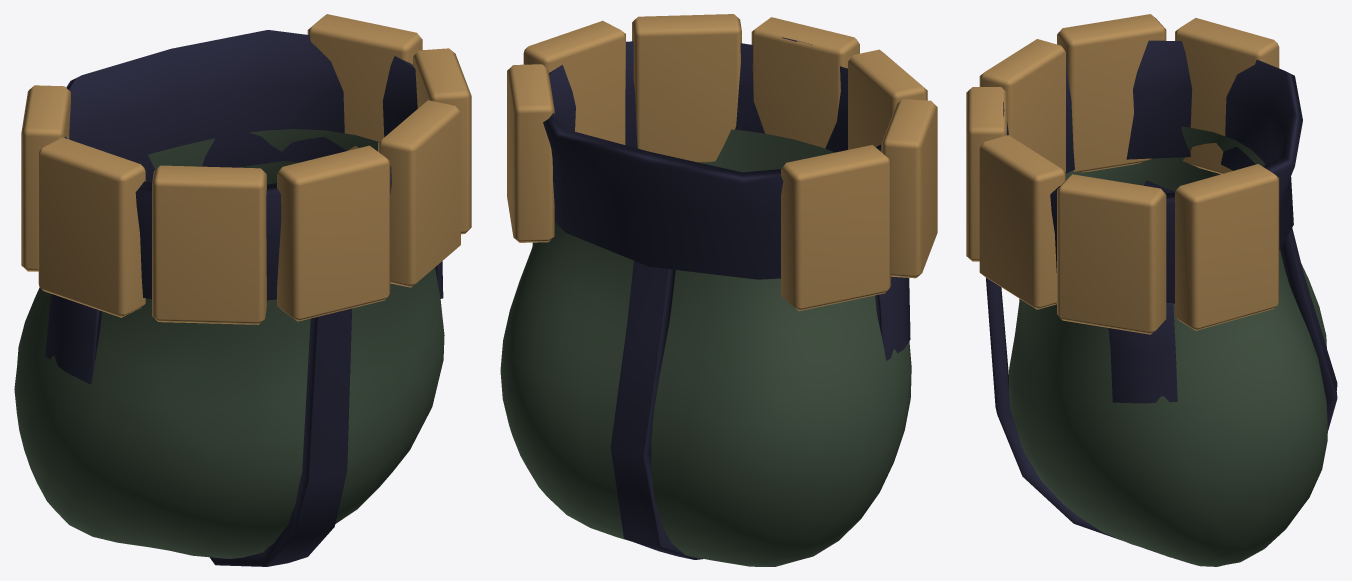
The model's file is Body_Part_Body_2.fbx.
The picture shows the model from 3 angles, left to right: view 1: azimuth 30°, elevation 25°; view 2: azimuth 150°, elevation 25°; view 3: azimuth 270°, elevation 25°; orthographic projection. The views are drawn at different scales.
Parts seen in each view (by area): view 1: polySurface35; view 2: polySurface35; view 3: polySurface35.
Part boxes in pixels (x1,y1,x2,y2): polySurface35: [14, 14, 471, 566]; polySurface35: [500, 14, 937, 566]; polySurface35: [966, 14, 1337, 566].
Bounding box in the file's own units: 33.54 × 36.35 × 27.6.
